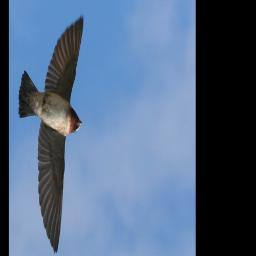Swallow: (18, 16, 84, 255)
